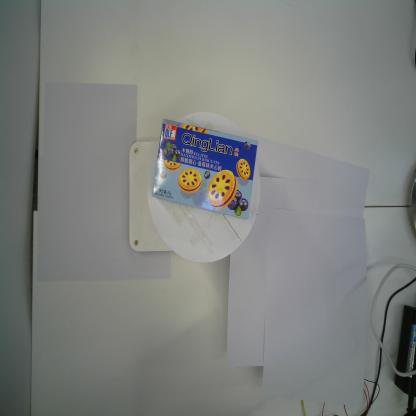Dessert: (151, 118, 259, 220)
